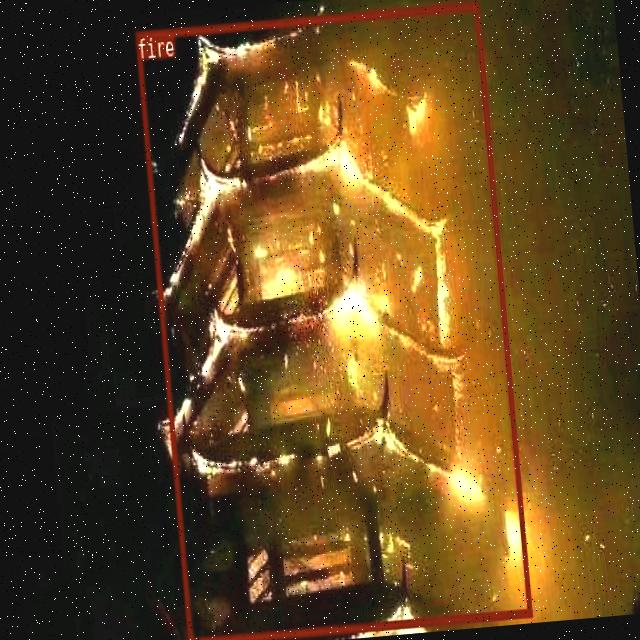fire: (134, 1, 531, 640)
